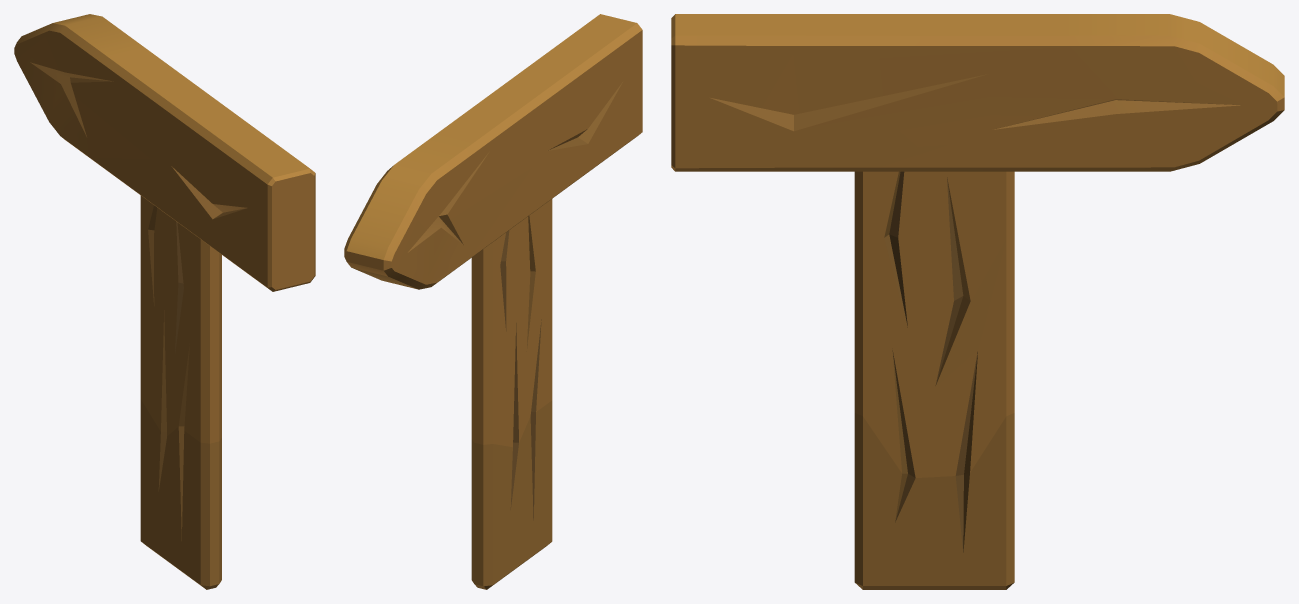
The model's file is sign.fbx.
3 views of the same model, side by side, from view 1: azimuth 30°, elevation 25°; view 2: azimuth 150°, elevation 25°; view 3: azimuth 270°, elevation 25° (orthographic). The views are drawn at different scales.
Visible parts, largest first — view 1: Cube.007; view 2: Cube.007; view 3: Cube.007.
Part boxes in pixels (<box>): Cube.007: <box>14,14,315,589</box>; Cube.007: <box>344,14,642,589</box>; Cube.007: <box>671,14,1284,589</box>.
Bounding box in the file's own units: 5.83 × 52.87 × 52.16.
